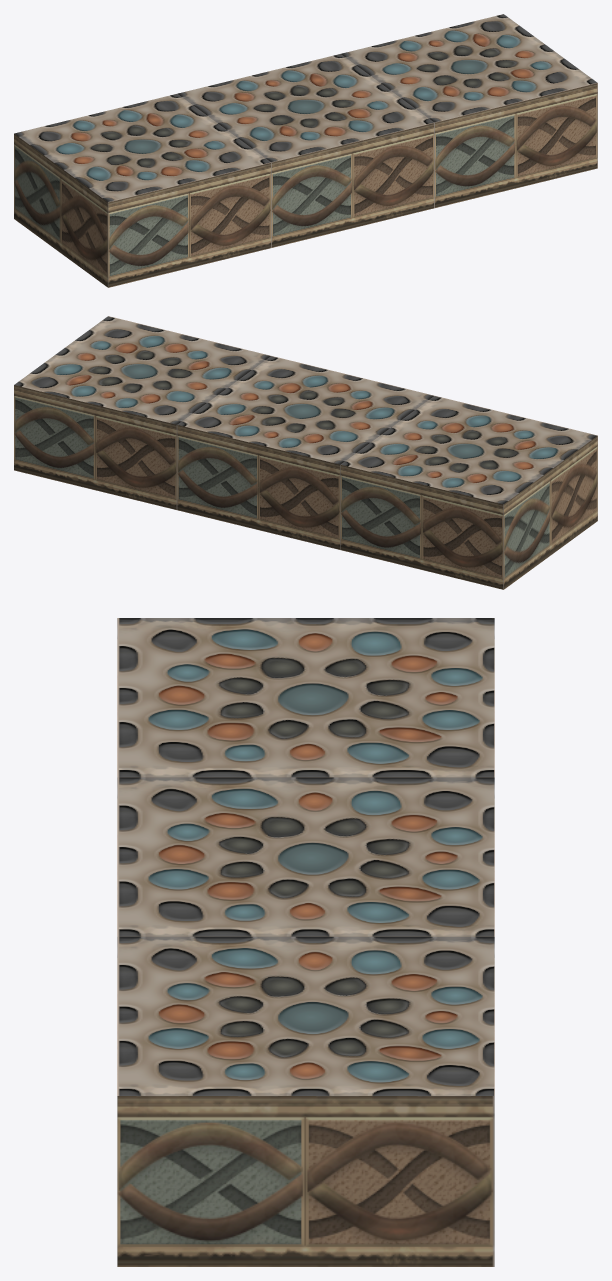
File: DI_009_pattern_block_var03.glb
3 renders of one model, top to bottom at view 1: azimuth 30°, elevation 25°; view 2: azimuth 150°, elevation 25°; view 3: azimuth 270°, elevation 25°, orthographic. The views are drawn at different scales.
Parts seen in each view (by area): view 1: Block.005, Block.006, Block.007; view 2: Block.005, Block.006, Block.007; view 3: Block.007, Block.005, Block.006.
Part boxes in pixels (x1,y1,x2,y2): Block.005: (14,94,271,287); Block.006: (177,54,434,247); Block.007: (341,14,597,207); Block.005: (340,396,597,589); Block.006: (177,356,434,549); Block.007: (14,316,270,509); Block.007: (117,936,494,1266); Block.005: (117,618,494,777); Block.006: (117,777,494,936).
Size of the model in its own units: 2.25 by 0.375 by 0.75.
1 material, 1 textured.
